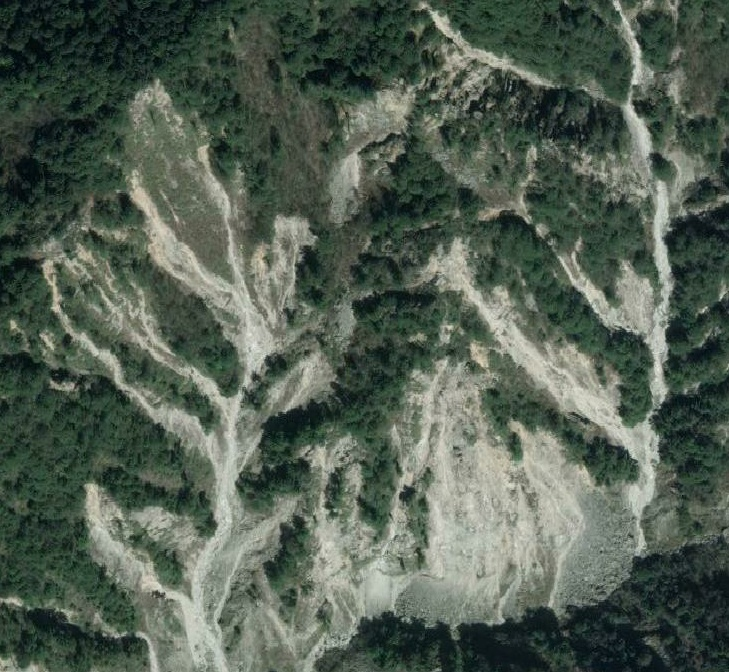slope: (0, 0, 714, 670)
